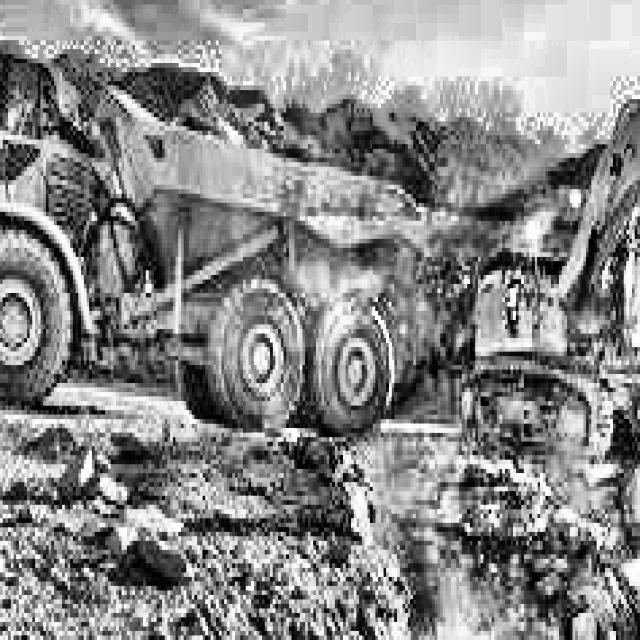dump_truck: (0, 0, 419, 478)
excavator: (453, 0, 640, 581)
